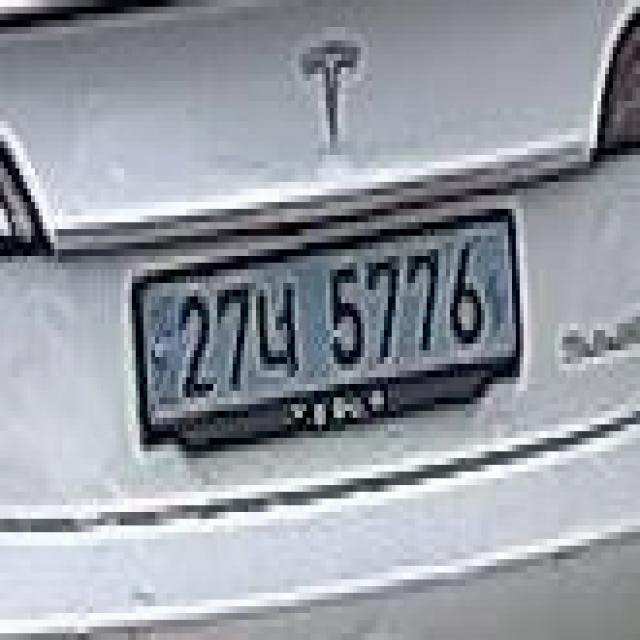EV_plate: (121, 196, 532, 450)
